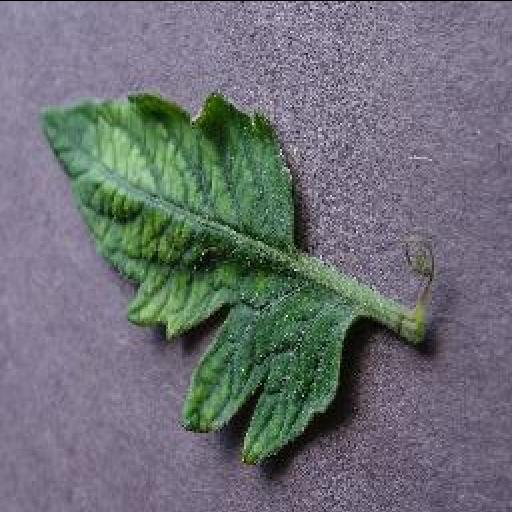disease_tomato: (32, 90, 350, 462)
